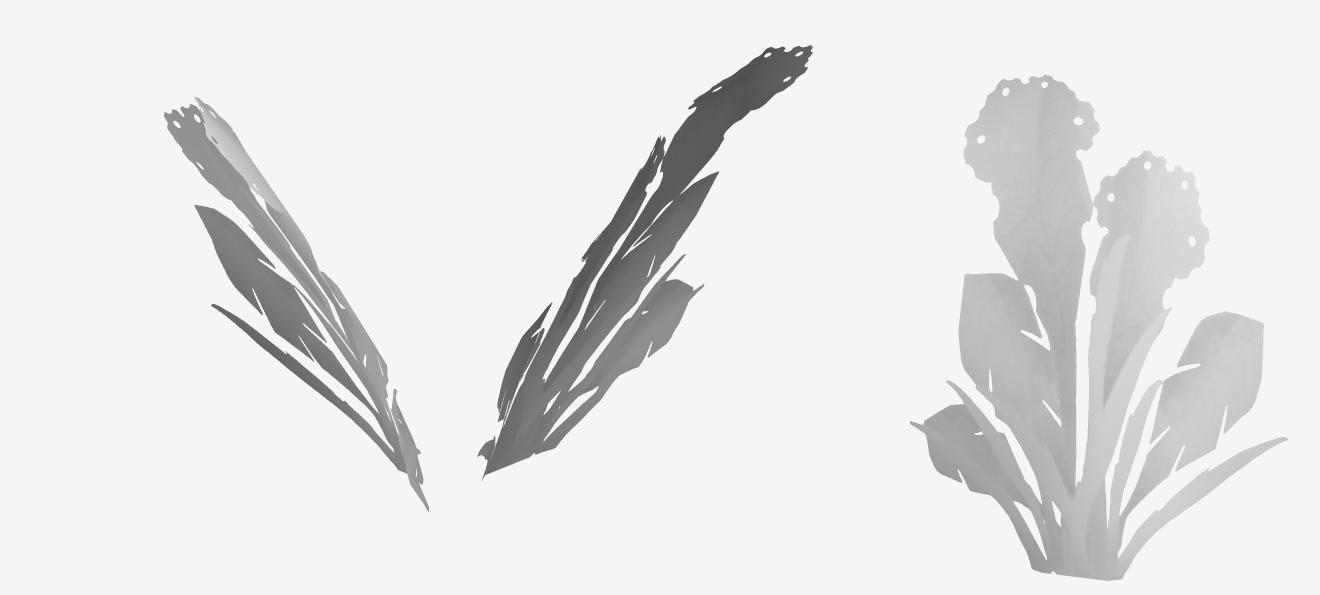
The model's file is TallGrass_2.fbx.
3 views of the same model, side by side, from view 1: azimuth 30°, elevation 25°; view 2: azimuth 150°, elevation 25°; view 3: azimuth 270°, elevation 25° (orthographic). The views are drawn at different scales.
Visible parts, largest first — view 1: TallGrass_2; view 2: TallGrass_2; view 3: TallGrass_2.
Part boxes in pixels (box(x1,y1,x2,y2)): TallGrass_2: box(164, 96, 429, 511); TallGrass_2: box(477, 45, 812, 480); TallGrass_2: box(910, 74, 1287, 580).
Bounding box in the file's own units: 1.92 × 2.75 × 2.31.
